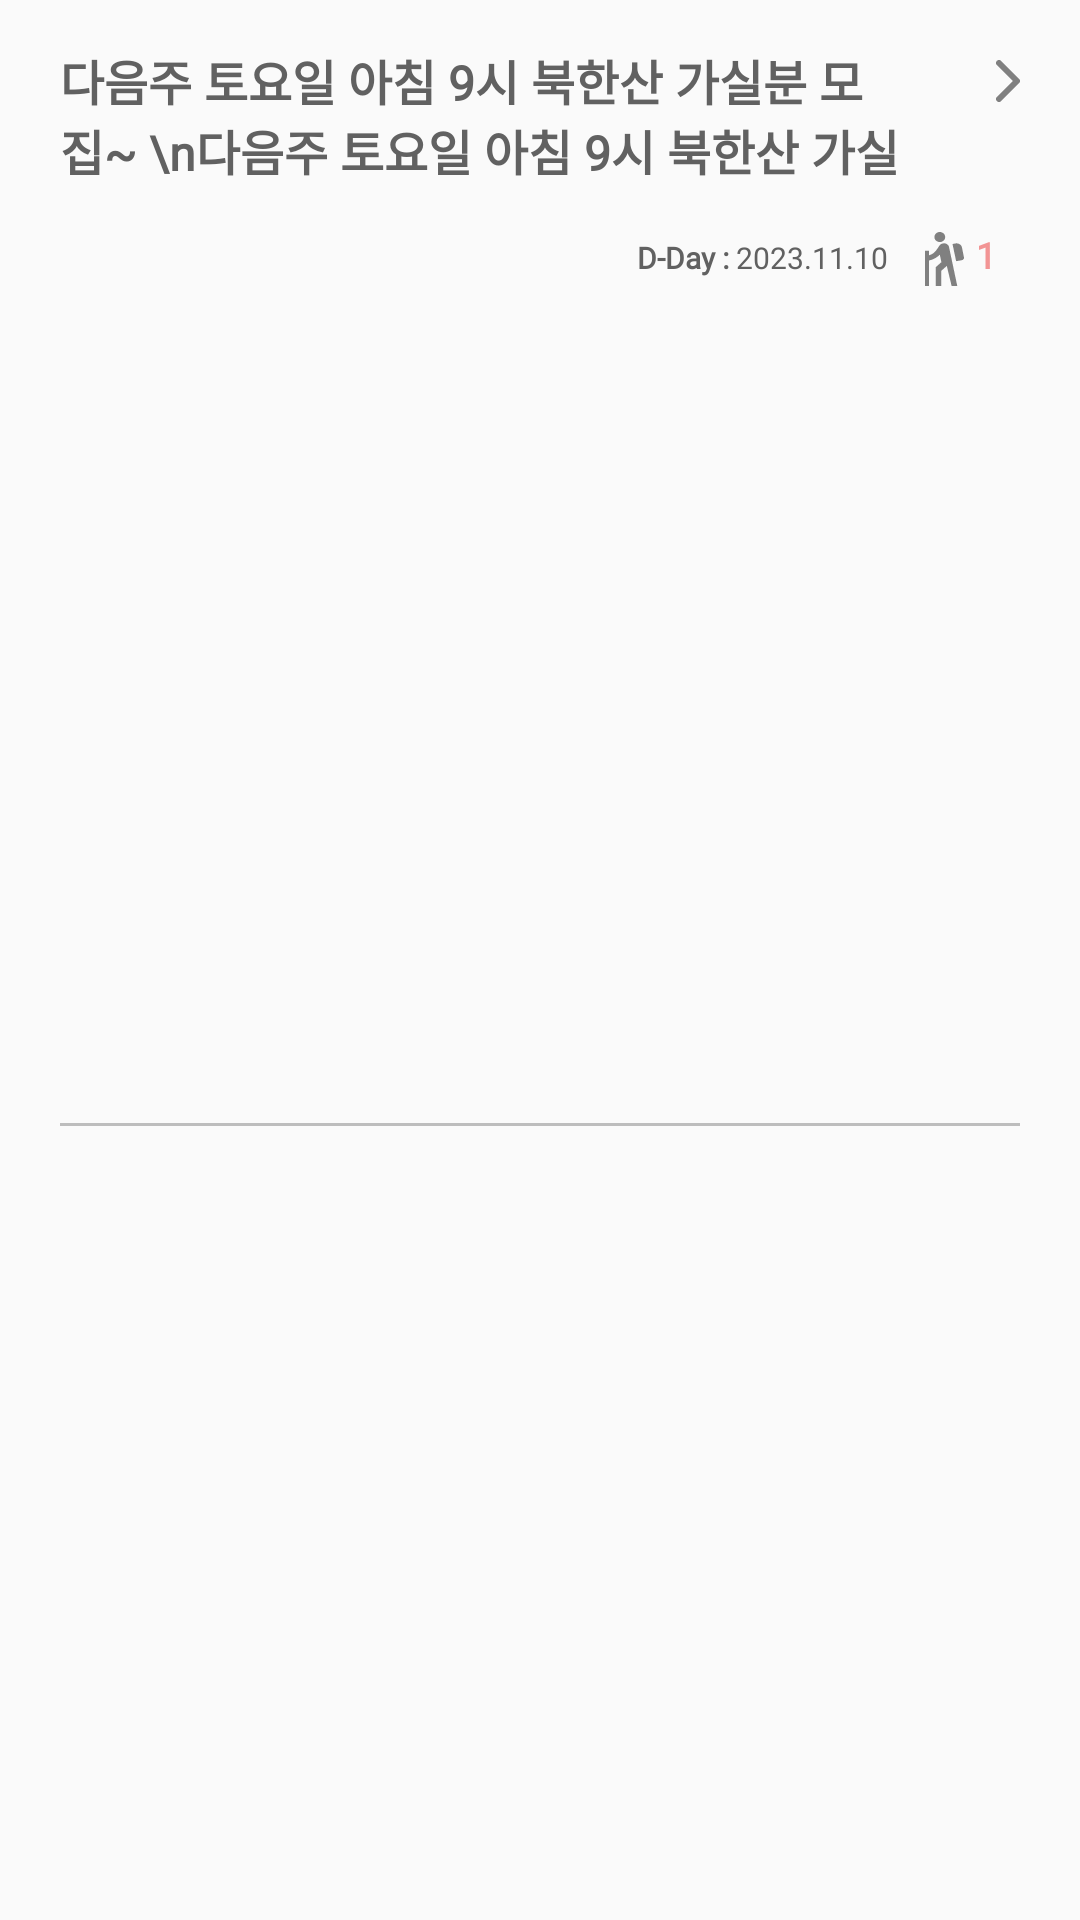

Named icons in this screenshot (1080px x 1920px) and their centers, (x=x, y=y):
hiker: (x=944, y=259)
right direction: (x=1008, y=81)
